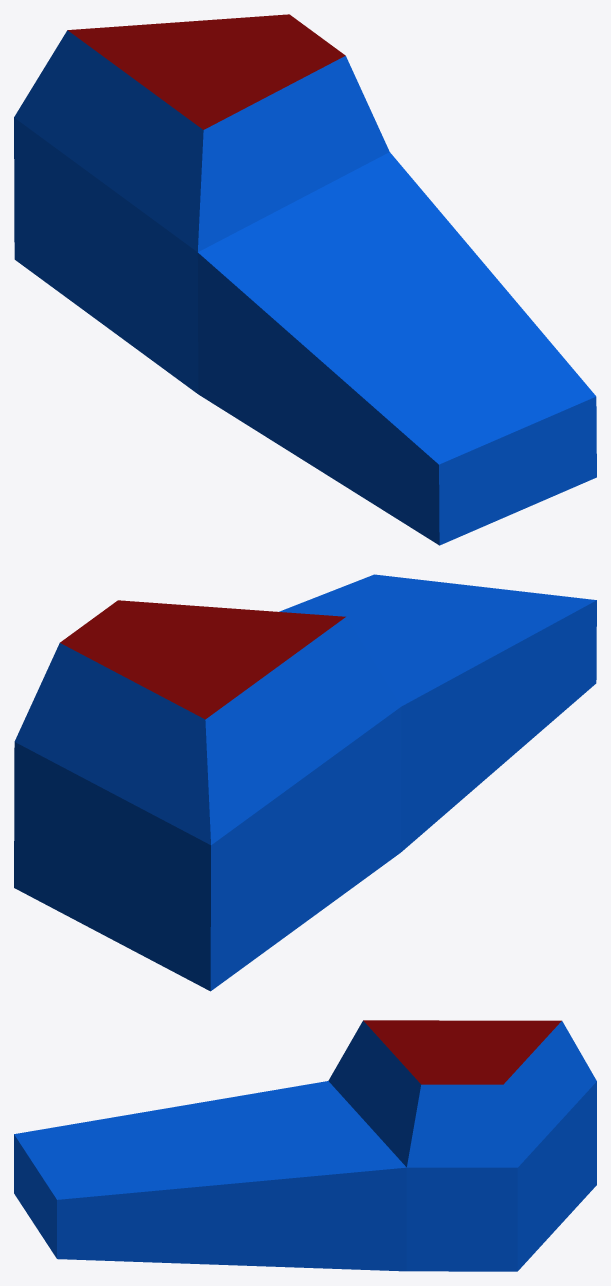
The model's file is disattached-foot(1).fbx.
The picture shows the model from 3 angles, top to bottom: view 1: azimuth 30°, elevation 25°; view 2: azimuth 150°, elevation 25°; view 3: azimuth 270°, elevation 25°; orthographic projection. The views are drawn at different scales.
Parts seen in each view (by area): view 1: Cube; view 2: Cube; view 3: Cube.
Part boxes in pixels (left/top/right/bottom): Cube: left=14, top=14, right=596, bottom=545; Cube: left=14, top=574, right=596, bottom=991; Cube: left=14, top=1020, right=596, bottom=1271.
Bounding box in the file's own units: 44.6 × 41.6 × 125.
